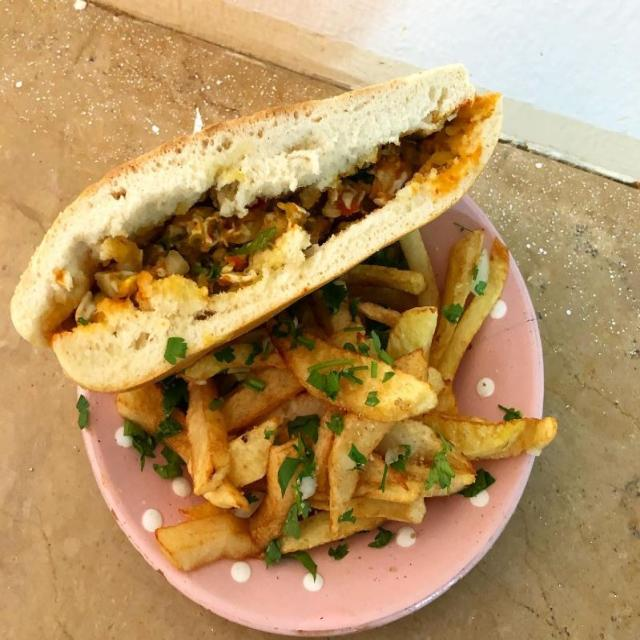Sandwitch tounsi: (25, 52, 512, 391)
